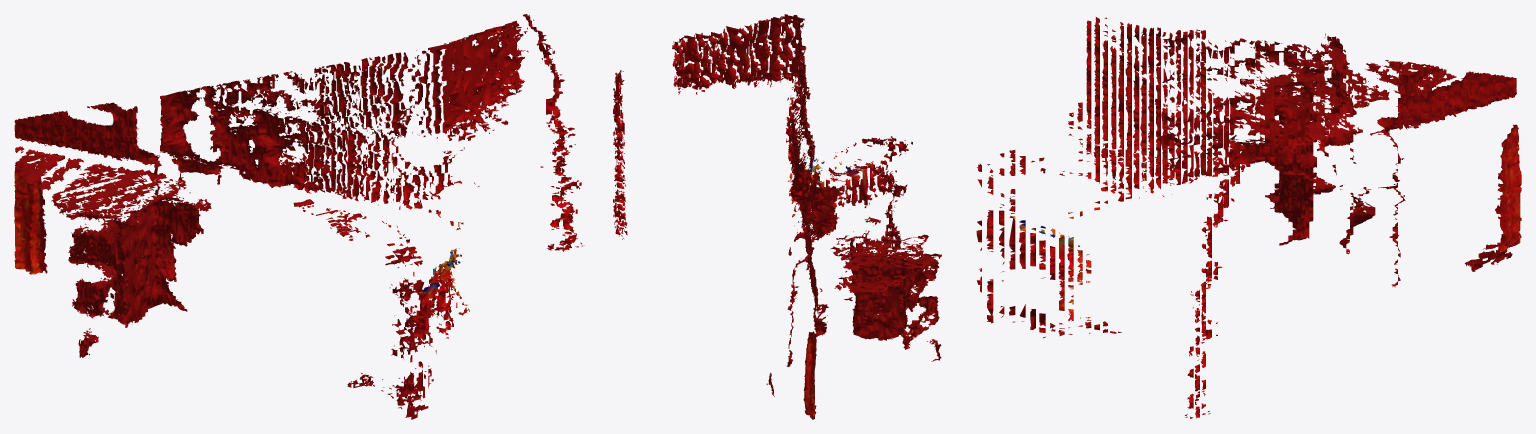
Rendered from mesh_iter_0001.obj.
3 renders of one model, left to right at view 1: azimuth 30°, elevation 25°; view 2: azimuth 150°, elevation 25°; view 3: azimuth 270°, elevation 25°, orthographic. The views are drawn at different scales.
Size of the model in its own units: 3.55 by 2.36 by 3.37.
